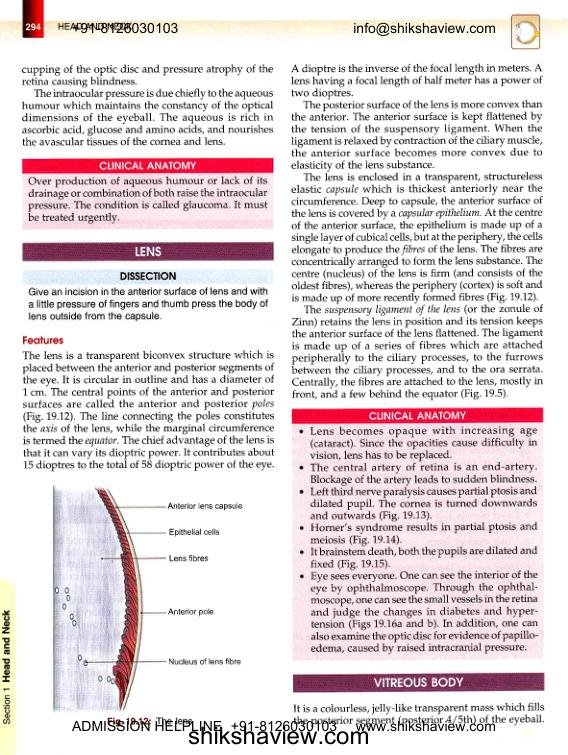caption: (367, 410, 467, 421), (98, 160, 198, 170), (106, 716, 193, 727)
image: (48, 482, 256, 714)
list: (297, 424, 541, 657)
section-heading: (372, 676, 465, 688), (133, 245, 163, 258)
sub-section-heading: (119, 271, 178, 282), (21, 334, 64, 347)
text: (289, 62, 545, 401), (21, 350, 276, 473), (20, 63, 274, 147), (27, 175, 269, 226), (27, 286, 270, 323), (292, 702, 545, 726)
